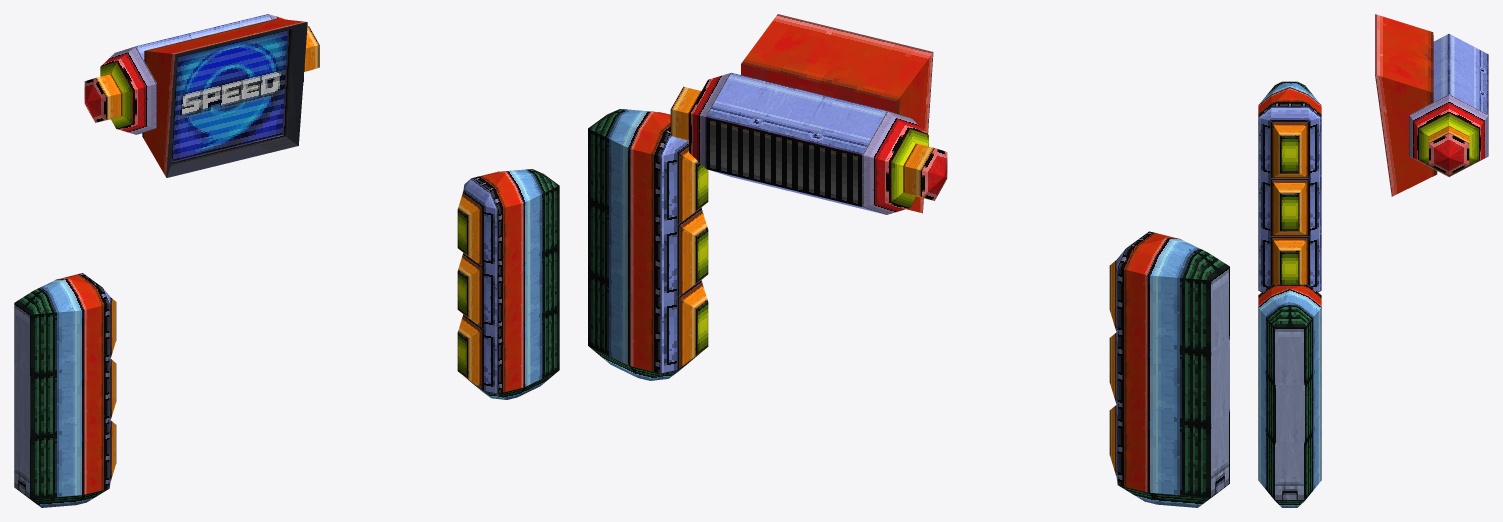
The model's file is change_speed.obj.
3 views of the same model, side by side, from view 1: azimuth 30°, elevation 25°; view 2: azimuth 150°, elevation 25°; view 3: azimuth 270°, elevation 25° (orthographic). The views are drawn at different scales.
Visible parts, largest first — view 1: Object_2, Object_6, Object_4, Object_3, Object_1; view 2: Object_2, Object_6, Object_4, Object_3, Object_1; view 3: Object_2, Object_4, Object_6, Object_5, Object_1.
Boxes of the visible parts, left/top/right/bottom form: Object_2: left=84, top=14, right=319, bottom=177; Object_6: left=14, top=273, right=116, bottom=507; Object_4: left=457, top=169, right=559, bottom=399; Object_3: left=457, top=210, right=466, bottom=377; Object_1: left=100, top=62, right=131, bottom=128; Object_2: left=670, top=14, right=947, bottom=214; Object_6: left=1109, top=231, right=1229, bottom=507; Object_4: left=588, top=109, right=707, bottom=380; Object_3: left=697, top=163, right=708, bottom=353; Object_1: left=891, top=129, right=928, bottom=207; Object_2: left=1375, top=14, right=1488, bottom=196; Object_4: left=1258, top=284, right=1321, bottom=507; Object_6: left=1258, top=81, right=1321, bottom=292; Object_5: left=1281, top=137, right=1298, bottom=284; Object_1: left=1419, top=113, right=1478, bottom=175.
Bounding box in the file's own units: 72 × 48.49 × 28.97.
Materials: 7 (7 with a texture image).
